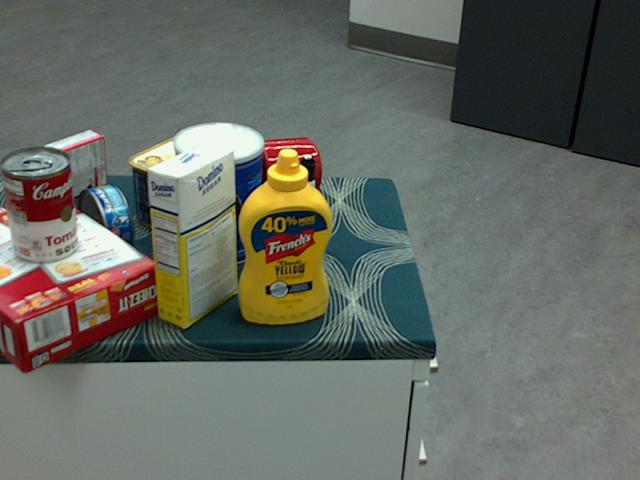cracker_box: (0, 189, 161, 372)
gelatin_box: (36, 129, 105, 205)
large_marker: (300, 155, 315, 249)
master_chef_can: (170, 121, 261, 266)
mug: (239, 135, 320, 206)
mustard_bottle: (238, 147, 333, 323)
potted_meat_can: (127, 135, 204, 228)
sugar_box: (146, 142, 237, 327)
tomato_soup_can: (0, 146, 77, 263)
tuna_fish_can: (76, 184, 131, 261)
